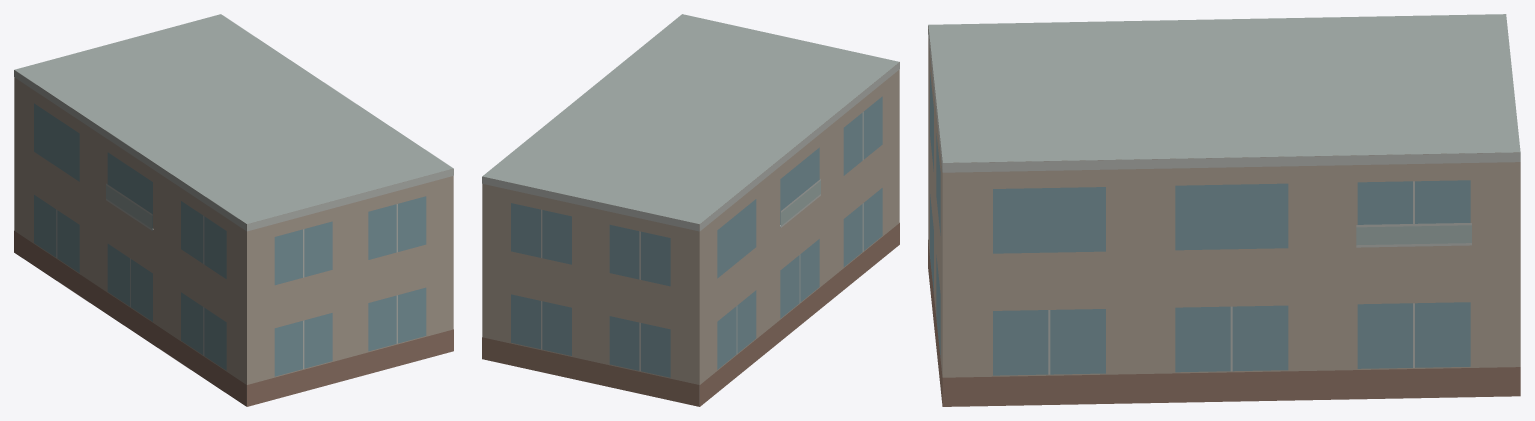
Rendered from survey-upis-32714879.glb.
3 renders of one model, left to right at view 1: azimuth 30°, elevation 25°; view 2: azimuth 150°, elevation 25°; view 3: azimuth 270°, elevation 25°, orthographic. The views are drawn at different scales.
Parts seen in each view (by area): view 1: survey-upis-32714879.tmp; view 2: survey-upis-32714879.tmp; view 3: survey-upis-32714879.tmp.
Part boxes in pixels (x1,y1,x2,y2): survey-upis-32714879.tmp: (14, 14, 453, 406); survey-upis-32714879.tmp: (482, 14, 899, 406); survey-upis-32714879.tmp: (928, 14, 1520, 406).
Bounding box in the file's own units: 8 × 6.1 × 13.44.
